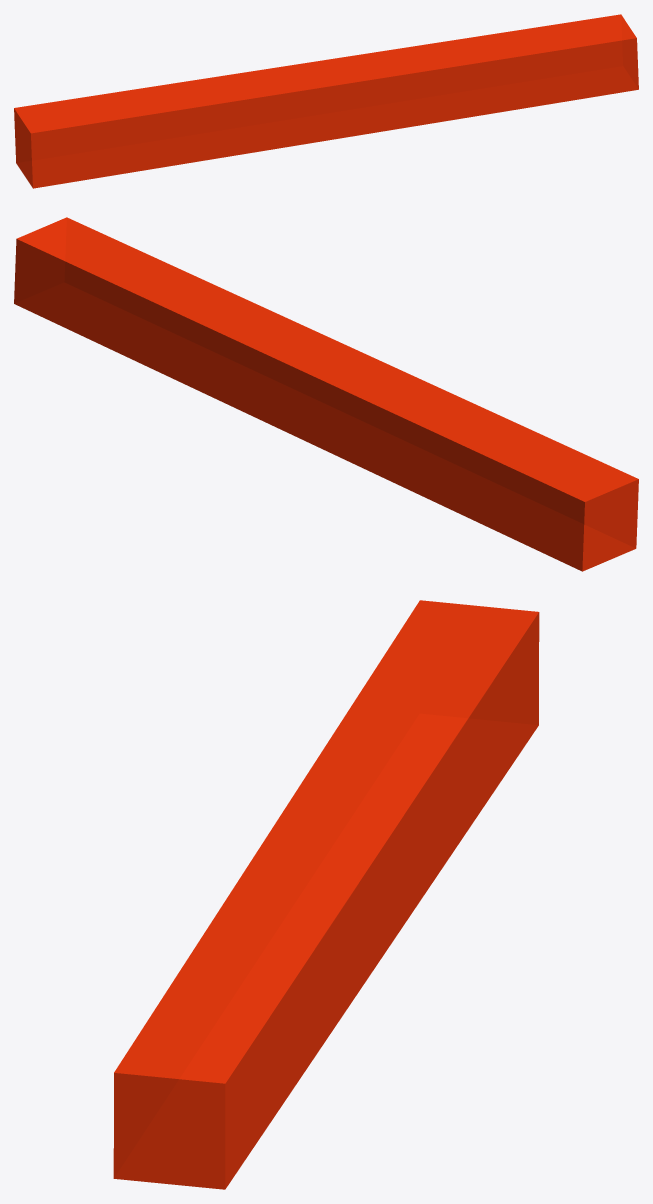
File: Event_421364160_EErechit_19.fbx
3 renders of one model, top to bottom at view 1: azimuth 30°, elevation 25°; view 2: azimuth 150°, elevation 25°; view 3: azimuth 270°, elevation 25°, orthographic. The views are drawn at different scales.
Visible parts, largest first — view 1: Model; view 2: Model; view 3: Model.
Part boxes in pixels (left/top/right/bottom): Model: left=14, top=14, right=638, bottom=188; Model: left=14, top=217, right=638, bottom=571; Model: left=113, top=600, right=539, bottom=1189.
Bounding box in the file's own units: 0.7925 × 0.109 × 0.2685.
